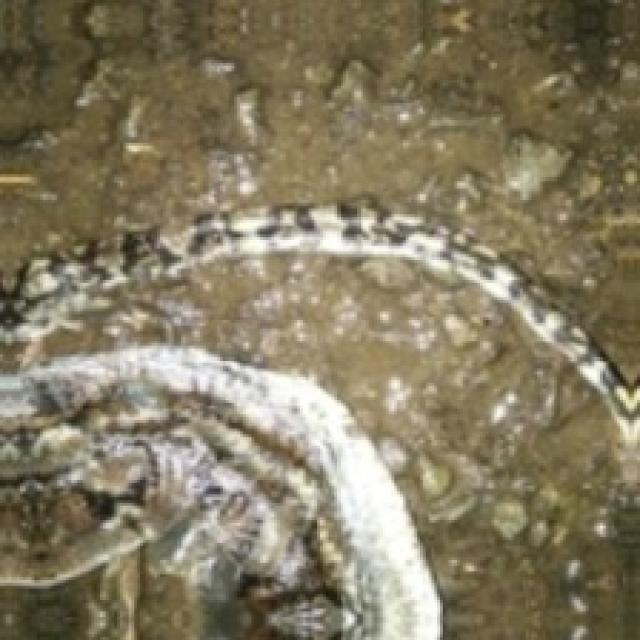reticulated python: (0, 204, 640, 447)
